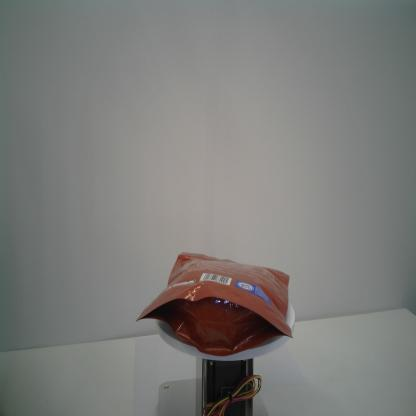Dried Food: (134, 248, 294, 358)
